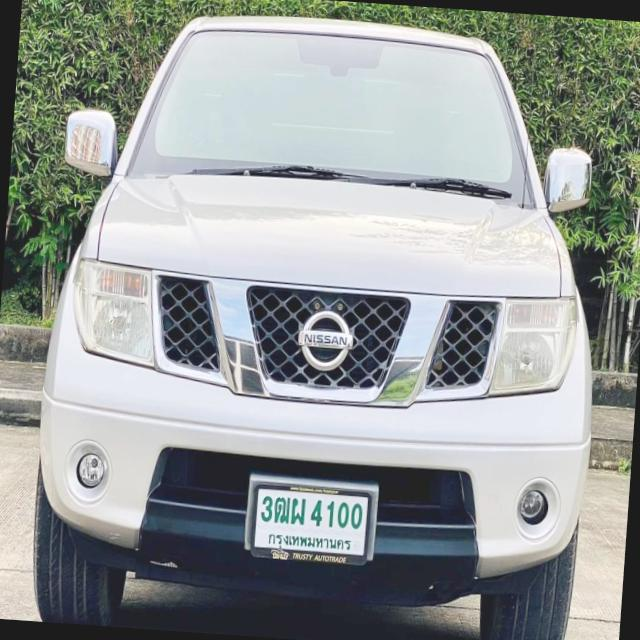license_plate: (247, 478, 374, 571)
